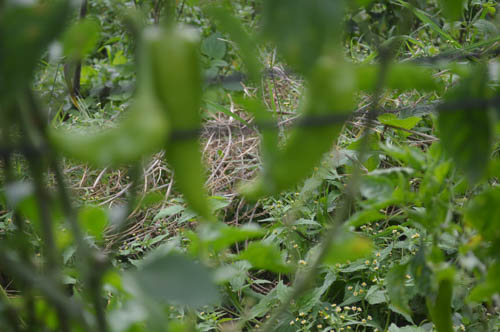ChiliPepper: (242, 60, 354, 214), (145, 31, 215, 220)
